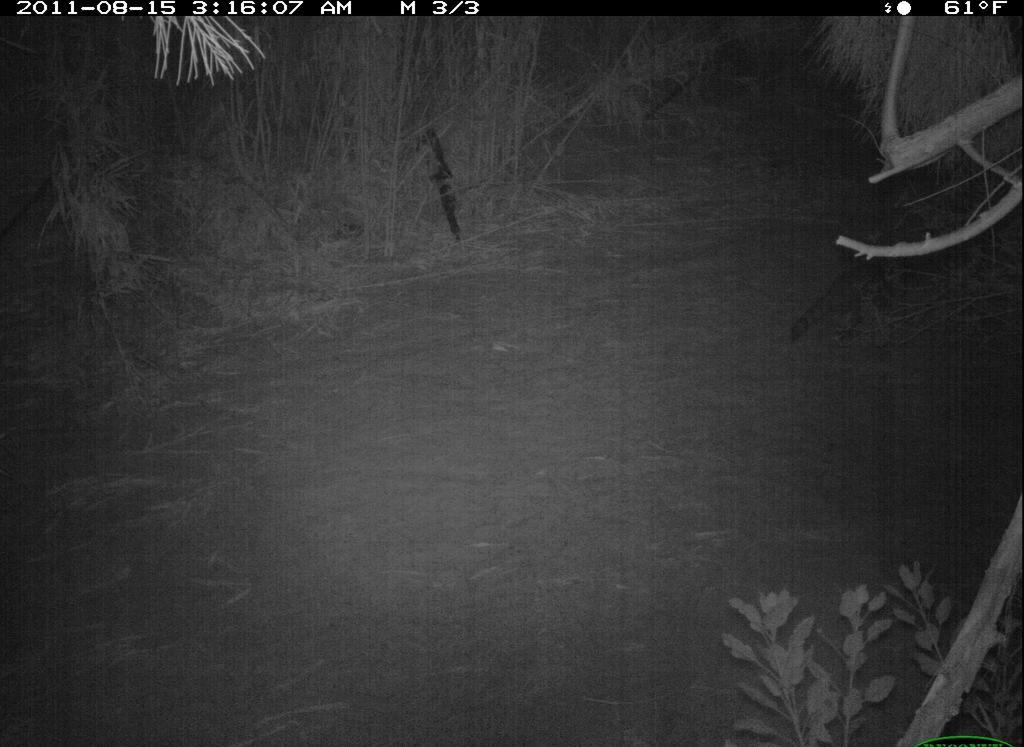raccoon: (783, 223, 932, 346)
